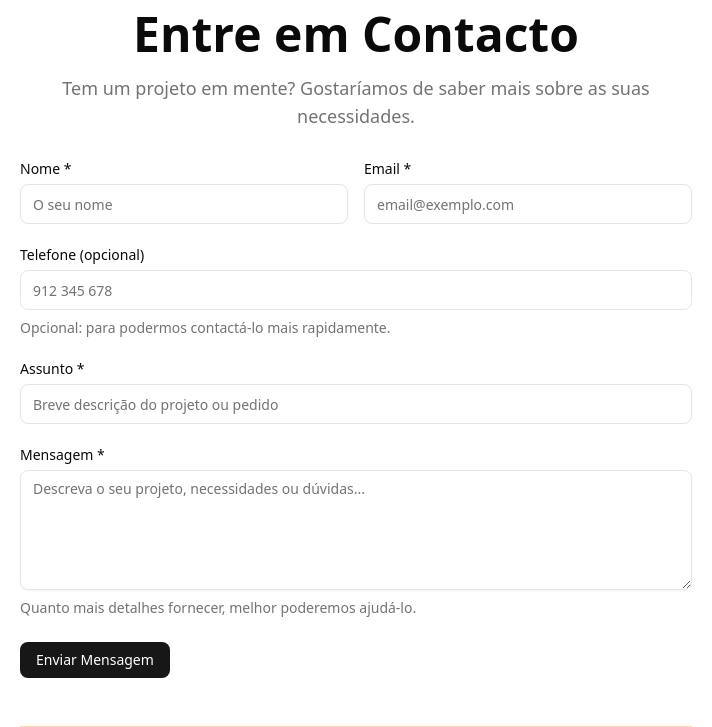
Test: ContactPage › Form validation › shows error when message is too short
The image size is (712, 727).
In the text box labelled "Mensagem *": (356, 530) [20,470,692,590], type "Short"
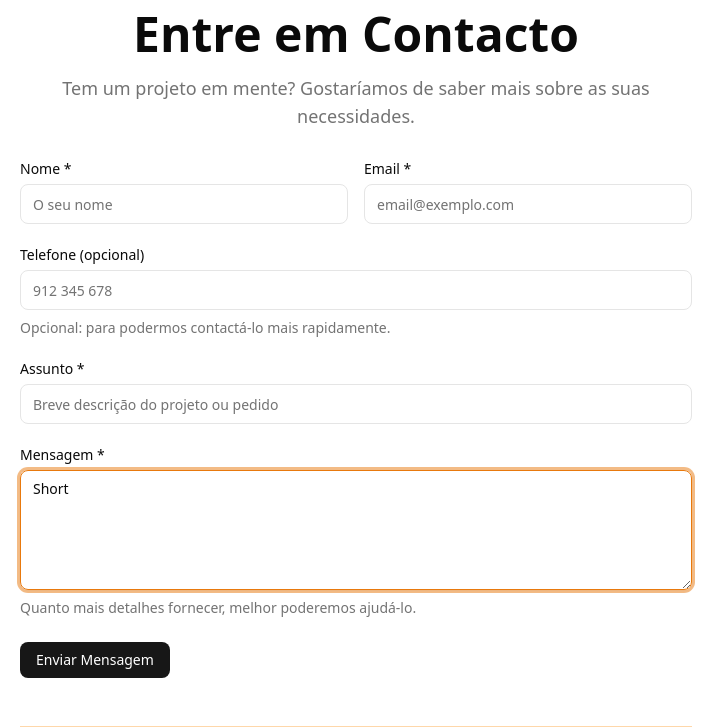
Click the button "Enviar Mensagem": (95, 660) [20,642,170,678]
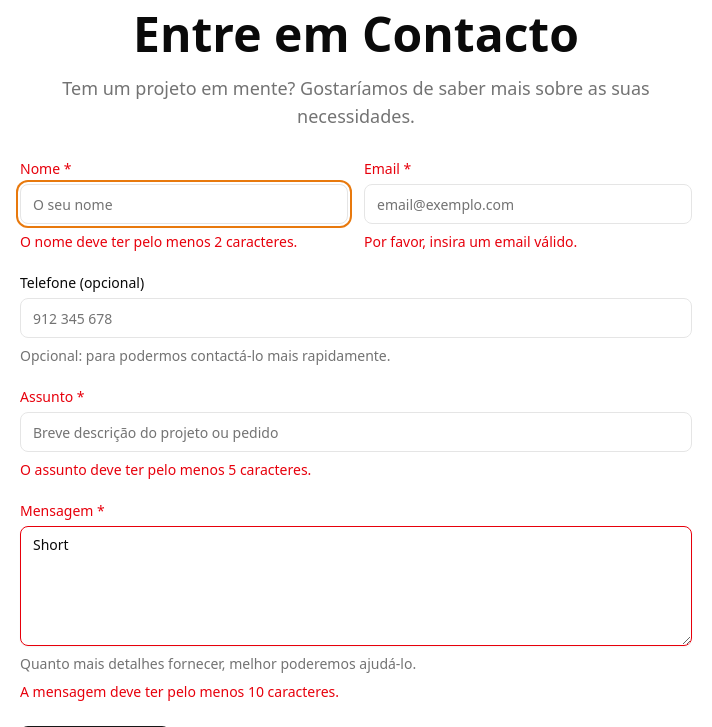
Result: the text "A mensagem deve ter pelo menos 10 caracteres." is shown at [20,682,339,701]
